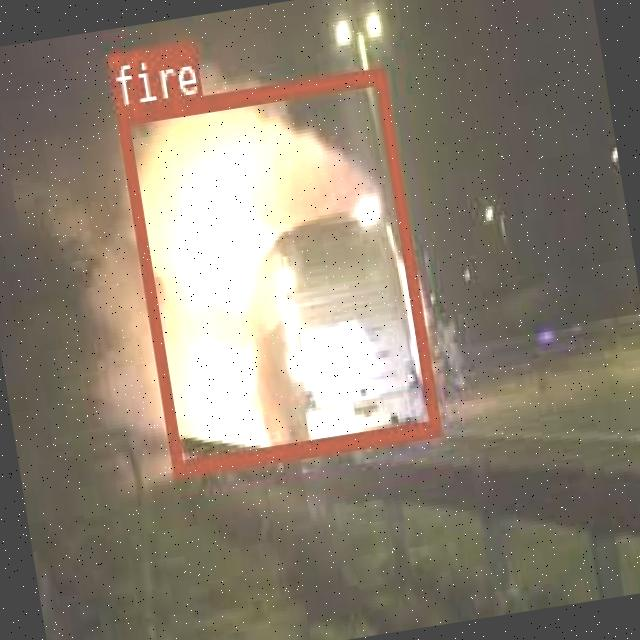fire: (114, 64, 440, 474)
